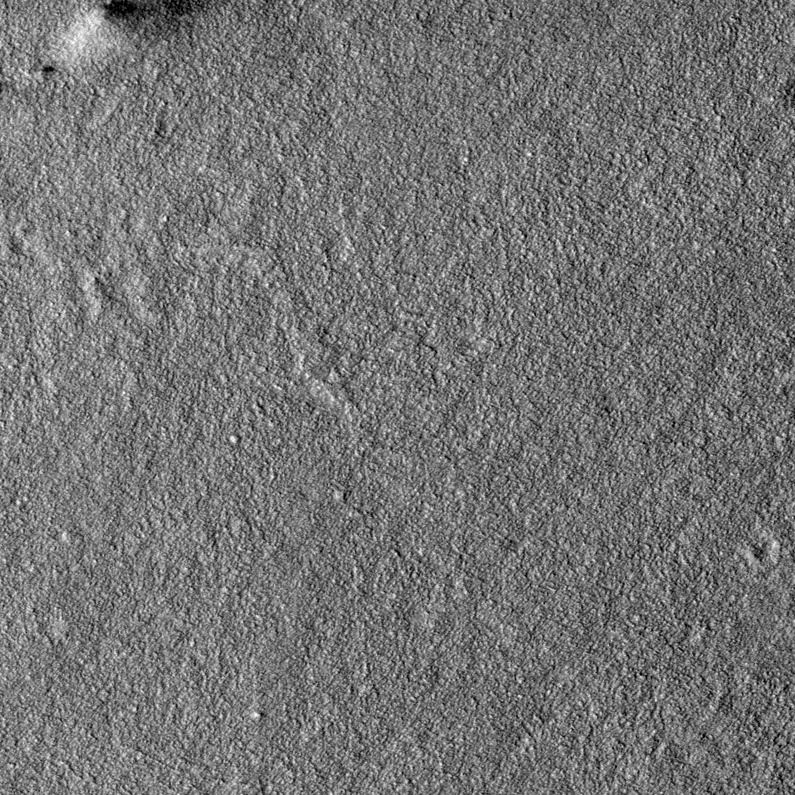dust_devil: (52, 1, 229, 71)
